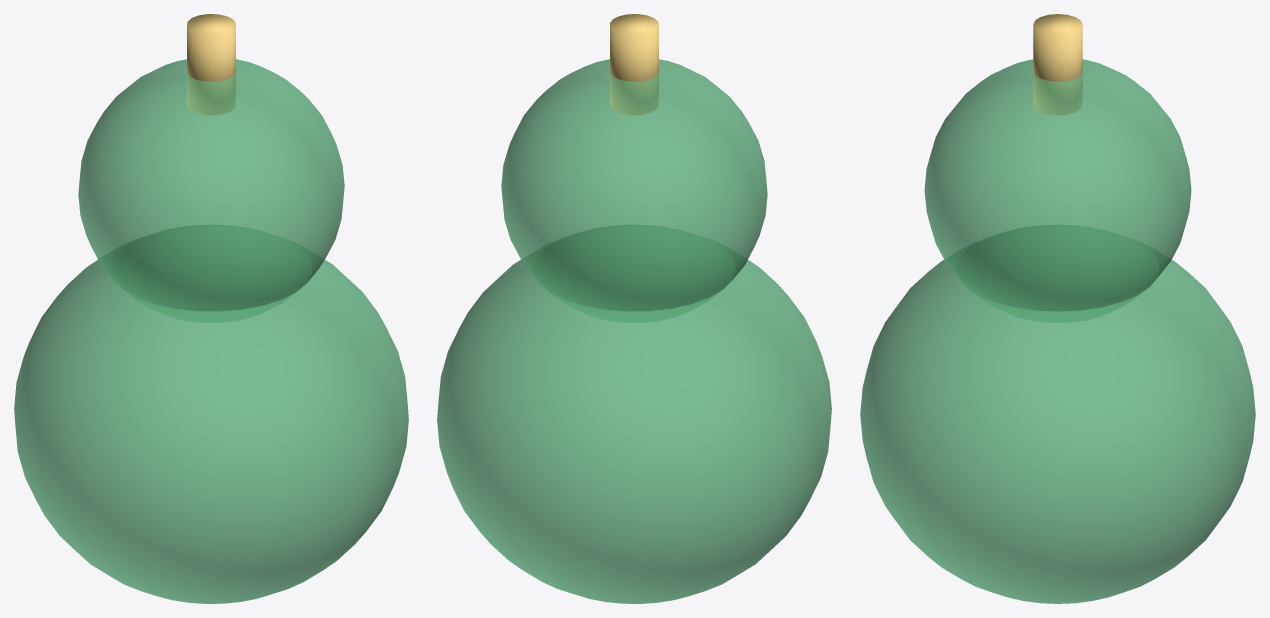
File: hulu.glb
The picture shows the model from 3 angles, left to right: view 1: azimuth 30°, elevation 25°; view 2: azimuth 150°, elevation 25°; view 3: azimuth 270°, elevation 25°; orthographic projection.
Visible parts, largest first — view 1: hulu; view 2: hulu; view 3: hulu.
Boxes of the visible parts, <box> form: hulu: <box>14,14,408,603</box>; hulu: <box>437,14,831,603</box>; hulu: <box>860,14,1255,603</box>.
Bounding box in the file's own units: 0.8 × 1.25 × 0.8.
